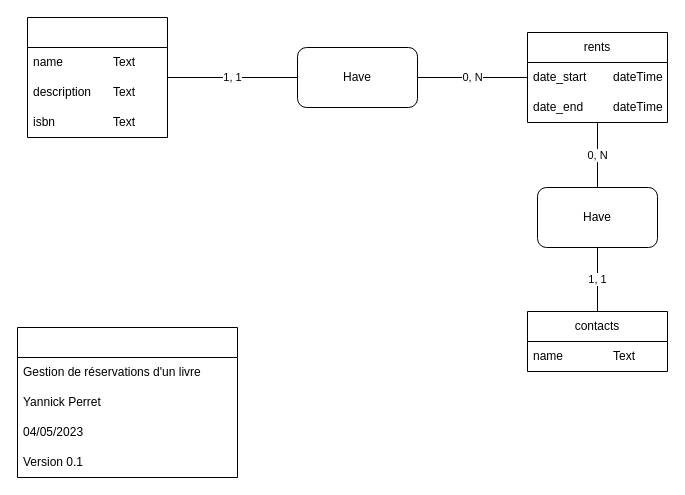
Some shapes in this 685 by 495 pixel diagram are drawn without their labels. The shapes that lost their labels are listed below. From the top down, each one's box as (x1, y1, x2, y2) in pixels, then its label:
(26, 16, 168, 138): books
(16, 326, 238, 478): Cartouche
